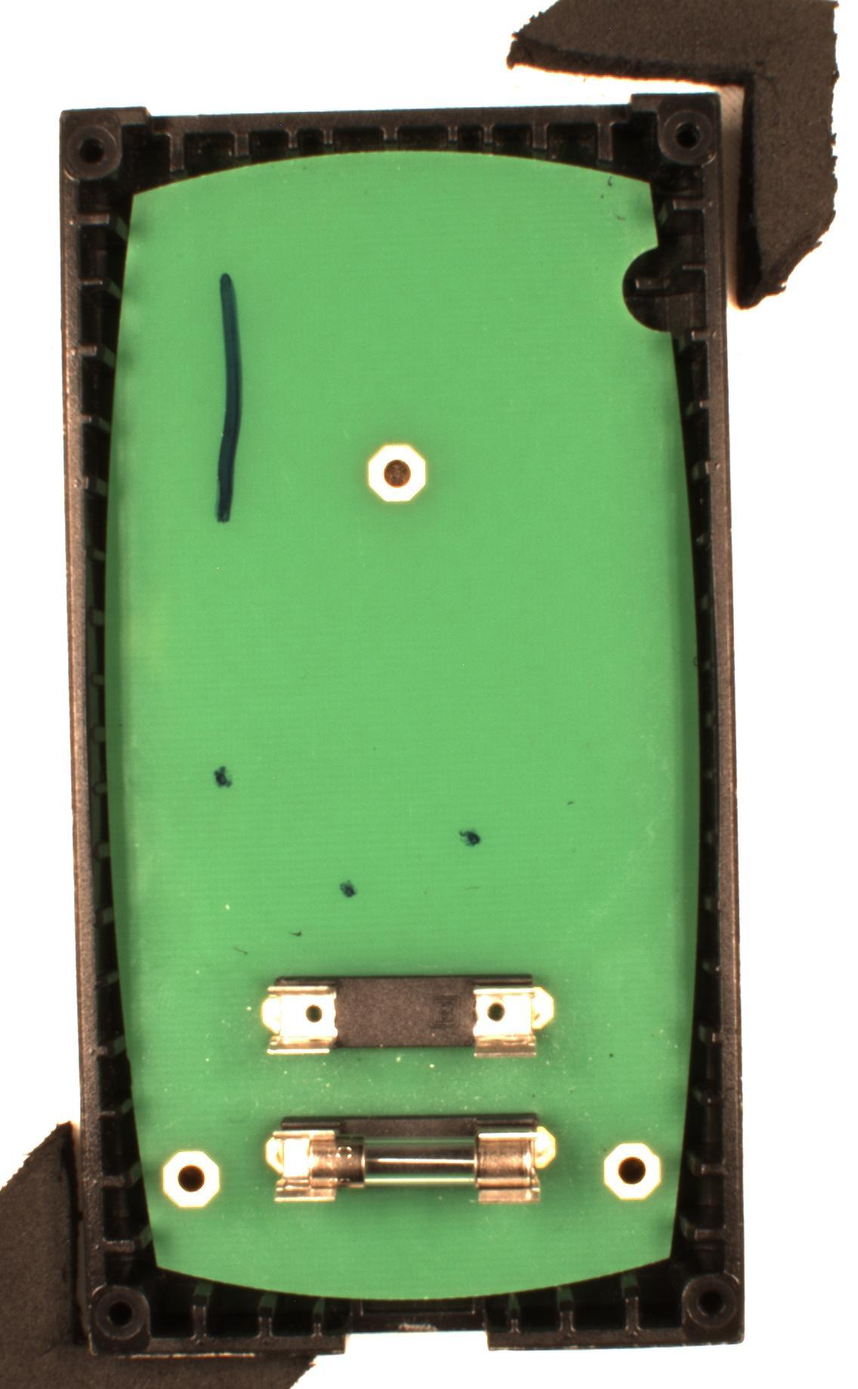Linijsko Ostecene: (214, 274, 245, 523)
Nepostojanje osiguraca: (261, 972, 556, 1060)
Tockasto Ostecenje: (213, 765, 234, 789), (458, 828, 482, 847), (339, 881, 357, 899)
